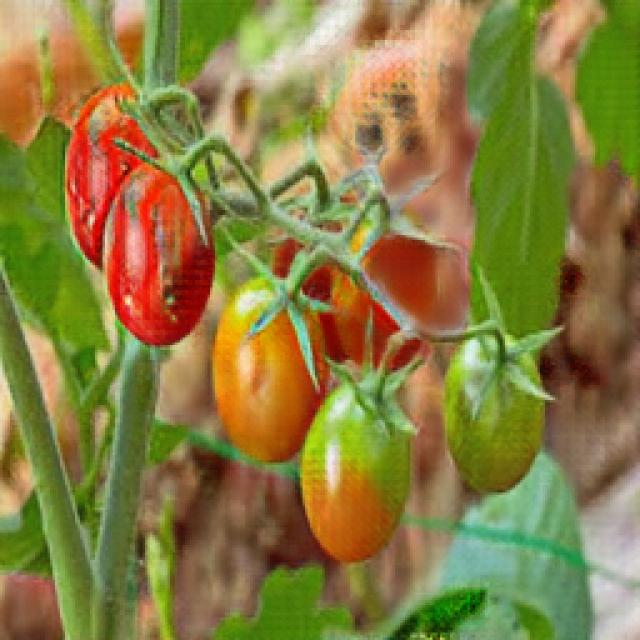overripe tomato: (96, 162, 226, 338), (64, 85, 150, 247)
